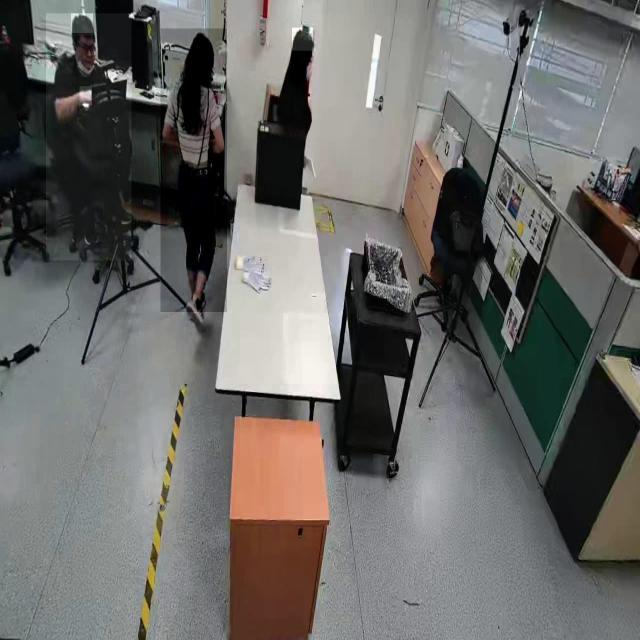face_nomask: (75, 36, 95, 66)
hand_noglove: (80, 86, 92, 107)
head_nohelmet: (188, 32, 212, 63), (292, 28, 314, 52), (71, 13, 93, 34)
person: (46, 13, 132, 262), (160, 28, 228, 313)
shoes: (186, 293, 206, 335)
